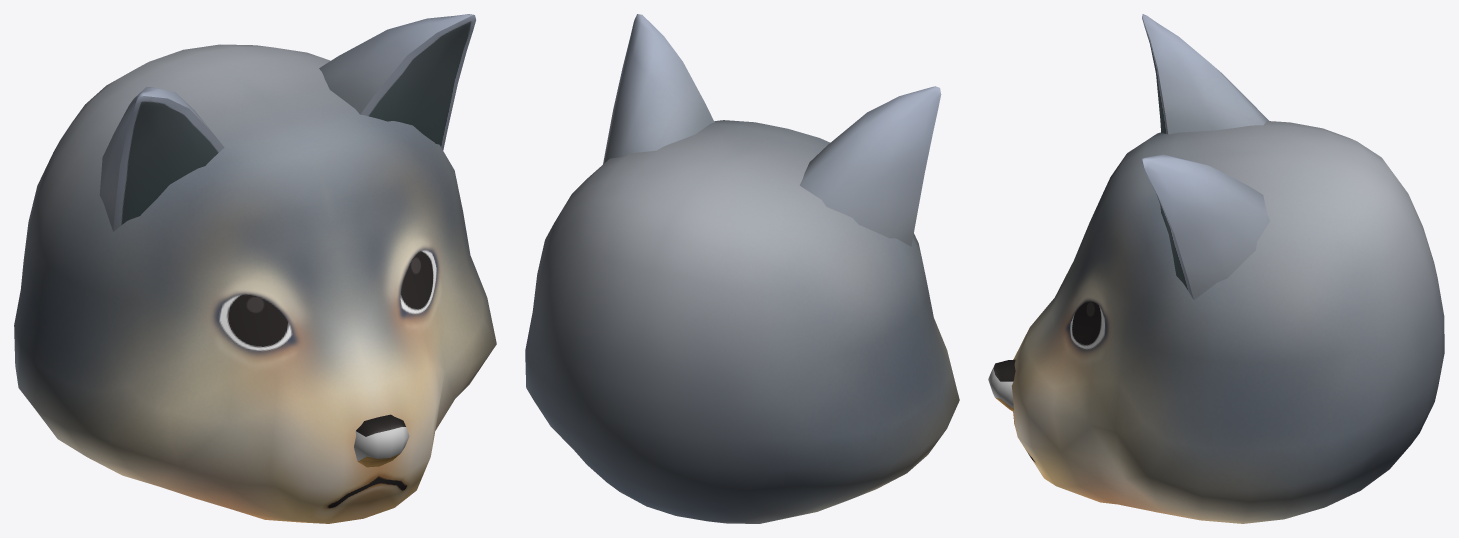
The model's file is wolf.FBX.
3 renders of one model, left to right at view 1: azimuth 30°, elevation 25°; view 2: azimuth 150°, elevation 25°; view 3: azimuth 270°, elevation 25°, orthographic. The views are drawn at different scales.
Visible parts, largest first — view 1: wolf; view 2: wolf; view 3: wolf.
Boxes of the visible parts, bbox=[...] form: wolf: bbox=[14, 14, 496, 523]; wolf: bbox=[525, 14, 959, 523]; wolf: bbox=[988, 14, 1444, 523].
Size of the model in its own units: 33.1 by 34.07 by 34.49.
